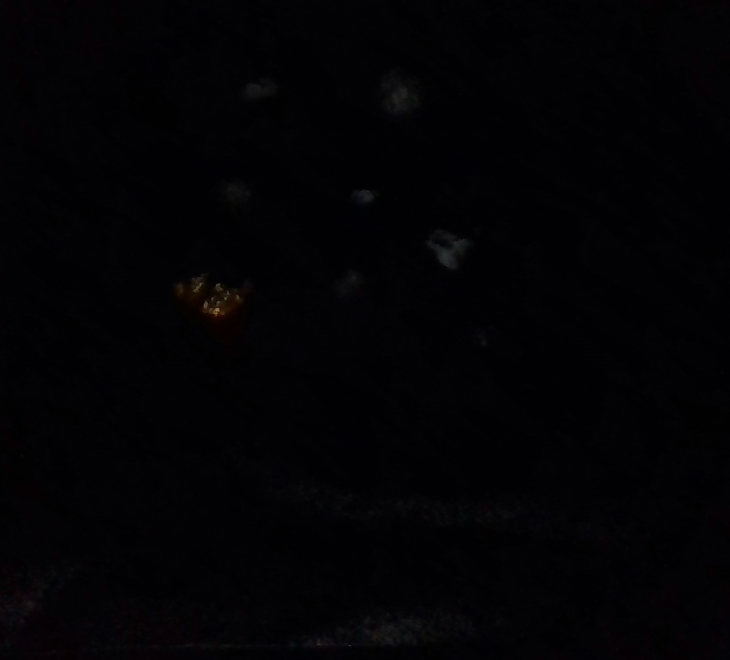anorthosite: (375, 66, 430, 123), (206, 175, 253, 220), (331, 266, 370, 304)
basalt: (471, 120, 541, 176), (448, 302, 502, 351), (276, 115, 318, 153)
metal: (172, 263, 254, 321), (478, 47, 525, 91), (294, 14, 318, 42)
regolith: (421, 203, 500, 271), (231, 66, 284, 111), (349, 183, 381, 213)
